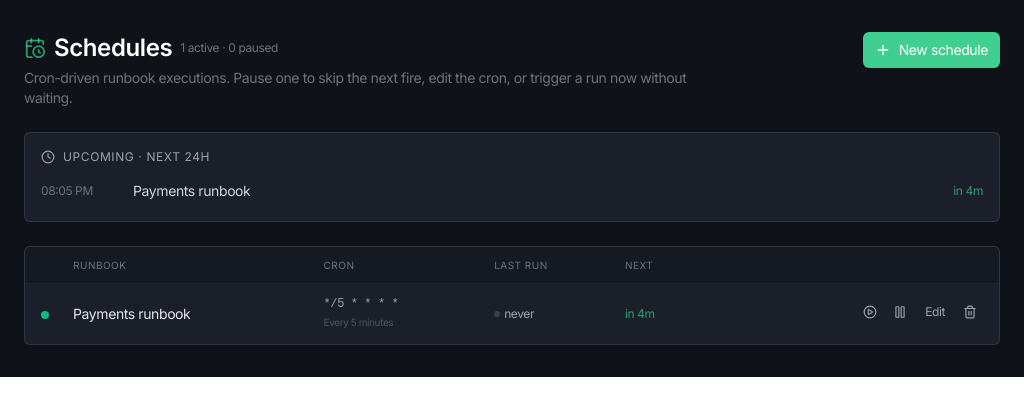
Test: SchedulesPage › uses inline delete confirm instead of native confirm()
This screenshot has width=1024, height=394.
Expected: the text "Payments runbook" next to "08:05 PM" is shown, top-left (133, 182), bottom-right (250, 199)
Click the button named "unschedule" at point(970, 312), box top-left (957, 298), bottom-right (983, 324)
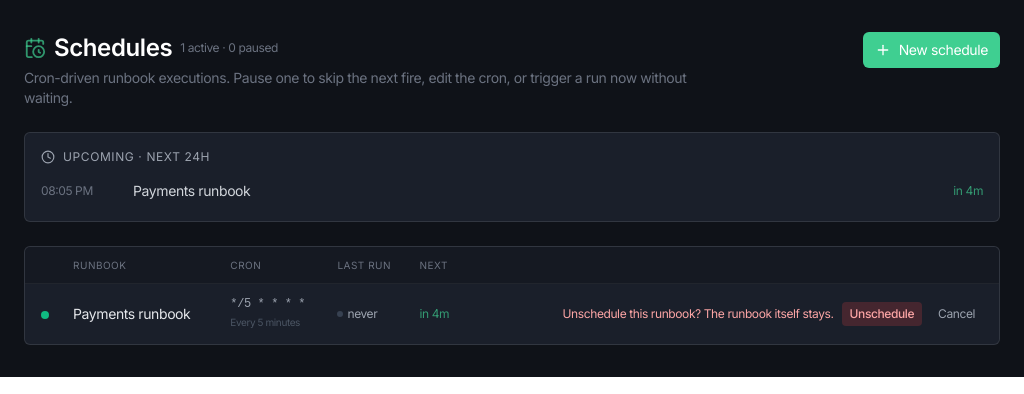
Now the button "Cancel" is shown, box top-left (930, 302), bottom-right (983, 326)
